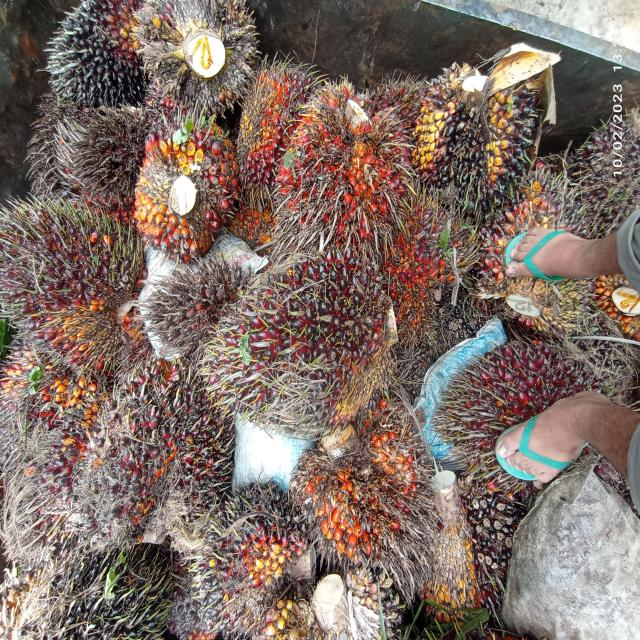fraksi 00: (410, 32, 538, 254), (189, 482, 325, 640), (47, 0, 156, 131)
fraksi 1: (200, 248, 400, 451), (66, 349, 243, 569), (441, 296, 602, 516), (3, 190, 140, 366)
fraksi 3: (119, 89, 246, 273), (235, 31, 313, 200)
fraksi 4: (274, 47, 412, 290), (300, 398, 432, 582), (386, 218, 451, 345)
